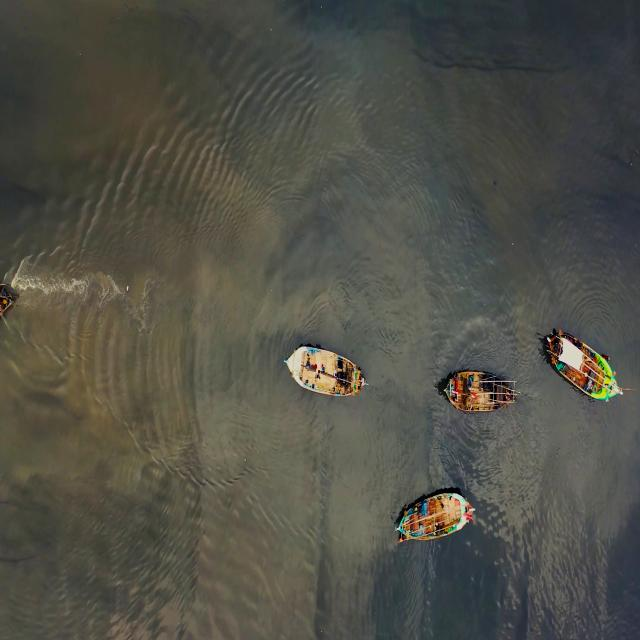ship: (543, 325, 620, 413), (280, 340, 367, 400), (399, 492, 472, 545), (445, 369, 517, 414)
